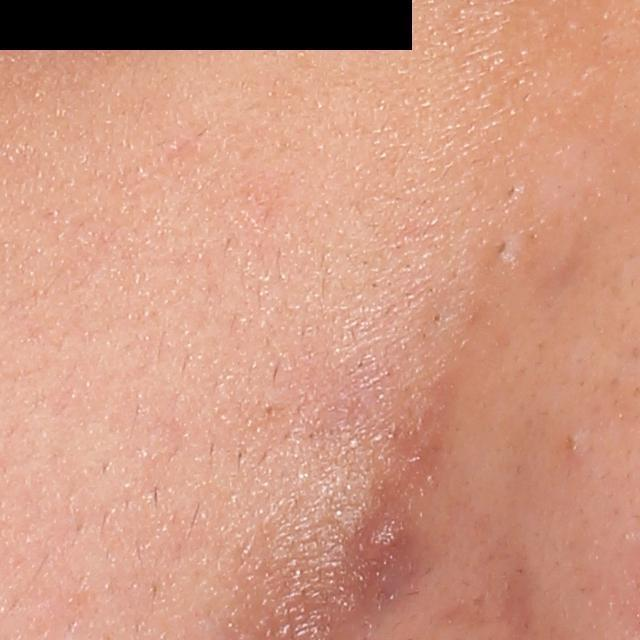comedo: (559, 428, 582, 455), (490, 234, 512, 260), (432, 312, 445, 326)
